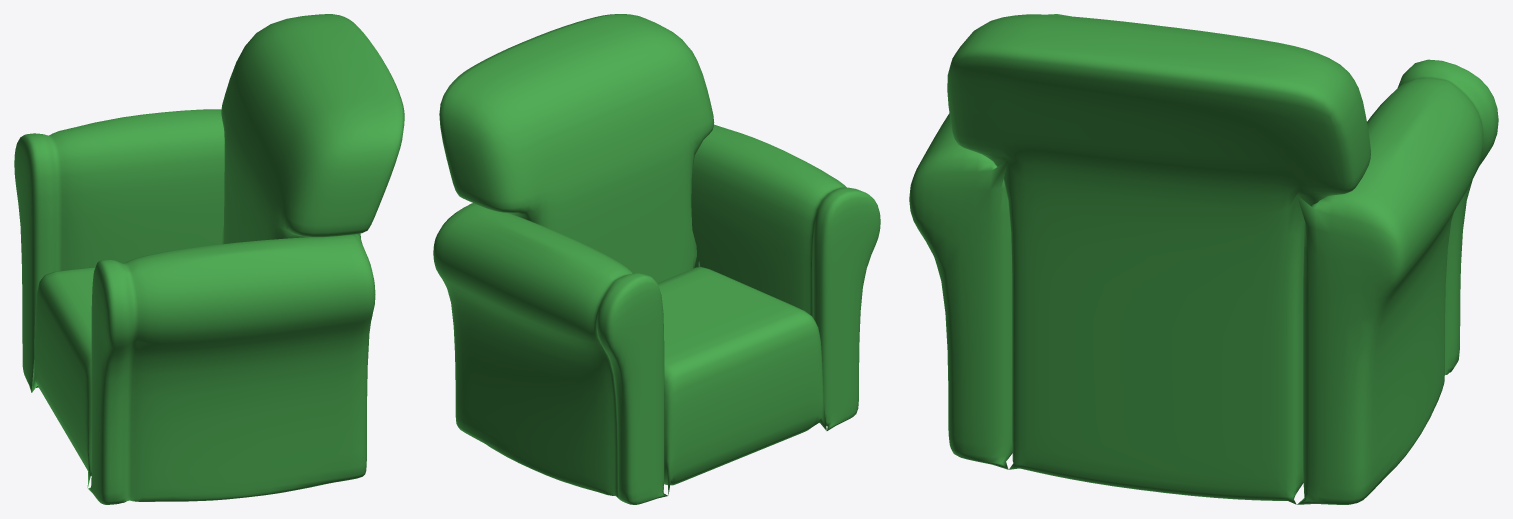
Rendered from Armchair.fbx.
3 views of the same model, side by side, from view 1: azimuth 30°, elevation 25°; view 2: azimuth 150°, elevation 25°; view 3: azimuth 270°, elevation 25° (orthographic). The views are drawn at different scales.
Parts seen in each view (by area): view 1: Armchair; view 2: Armchair; view 3: Armchair.
Part boxes in pixels (bbox=[...]): Armchair: bbox=[14, 14, 404, 504]; Armchair: bbox=[433, 14, 880, 504]; Armchair: bbox=[909, 14, 1498, 504].
Bounding box in the file's own units: 1.14 × 1.12 × 1.31.
